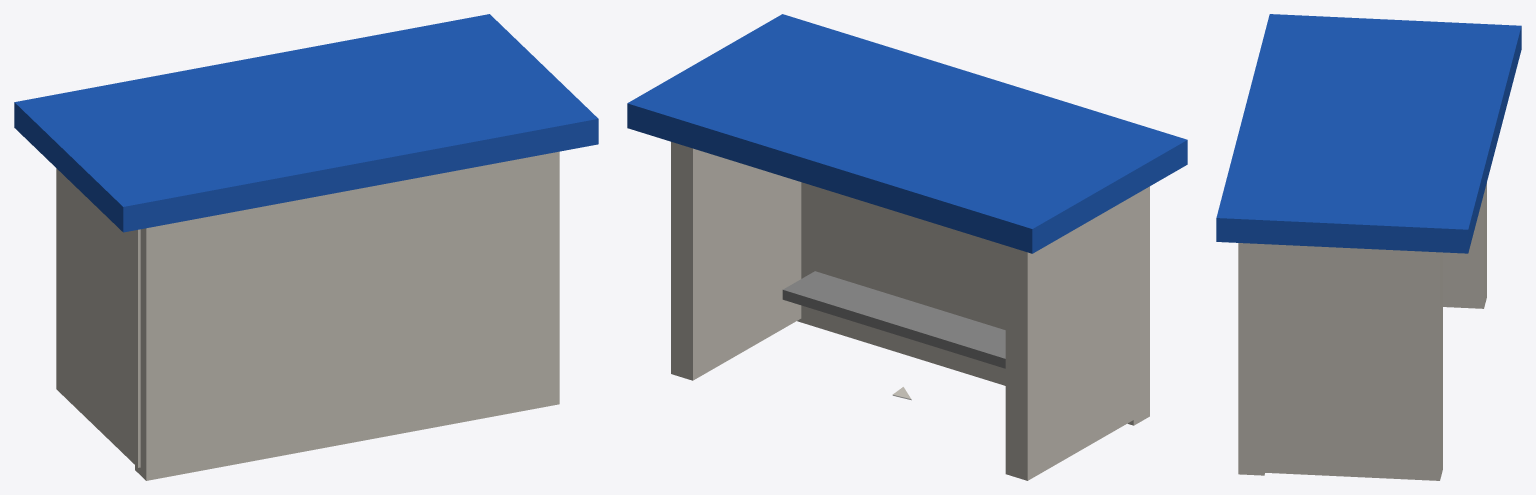
File: noord_shelter.glb
The picture shows the model from 3 angles, left to right: view 1: azimuth 30°, elevation 25°; view 2: azimuth 150°, elevation 25°; view 3: azimuth 270°, elevation 25°; orthographic projection. The views are drawn at different scales.
Visible parts, largest first — view 1: noord_shelter_lod0; view 2: noord_shelter_lod0; view 3: noord_shelter_lod0.
Boxes of the visible parts, x1=… form: noord_shelter_lod0: x1=14, y1=14, x2=598, y2=480; noord_shelter_lod0: x1=627, y1=14, x2=1187, y2=480; noord_shelter_lod0: x1=1216, y1=14, x2=1521, y2=480.
Size of what is drawn, in the model's own units: 4.84 by 2.81 by 2.89.
